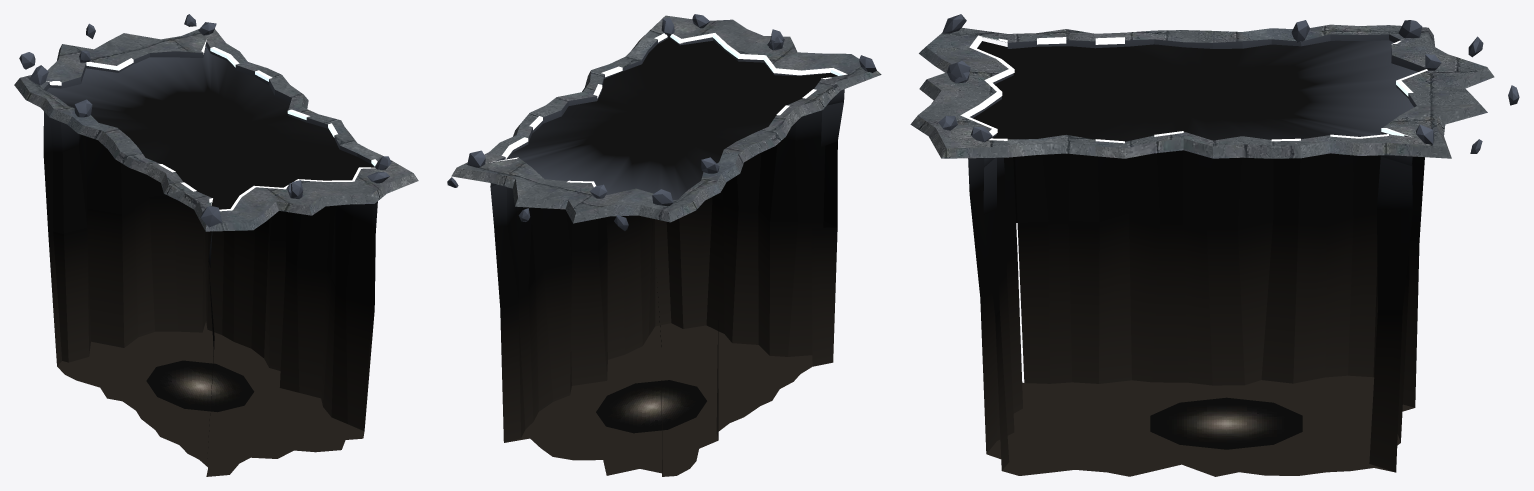
The model's file is gap_lane.glb.
The picture shows the model from 3 angles, left to right: view 1: azimuth 30°, elevation 25°; view 2: azimuth 150°, elevation 25°; view 3: azimuth 270°, elevation 25°; orthographic projection. The views are drawn at different scales.
Parts seen in each view (by area): view 1: pit_interior, pit_void, pit_rim, pit_glow, pit_rubble, pit_cue; view 2: pit_interior, pit_void, pit_rim, pit_glow, pit_rubble, pit_cue; view 3: pit_interior, pit_void, pit_rim, pit_glow, pit_rubble, pit_cue.
Part boxes in pixels (x1,y1,x2,y2): pit_interior: (43,112,377,476); pit_void: (46,46,373,209); pit_rim: (14,29,418,231); pit_glow: (146,360,254,412); pit_rubble: (19,14,391,227); pit_cue: (46,39,377,211); pit_interior: (490,102,843,476); pit_void: (508,38,837,199); pit_rim: (451,15,881,223); pit_glow: (596,380,706,433); pit_rubble: (447,14,876,230); pit_cue: (489,33,847,187); pit_interior: (968,150,1424,476); pit_void: (973,40,1417,141); pit_rim: (910,24,1494,166); pit_glow: (1150,397,1302,449); pit_rubble: (938,14,1519,153); pit_cue: (960,35,1427,143).
Bounding box in the file's own units: 2.06 × 2.71 × 4.15.
Materials: 6 (1 with a texture image).
